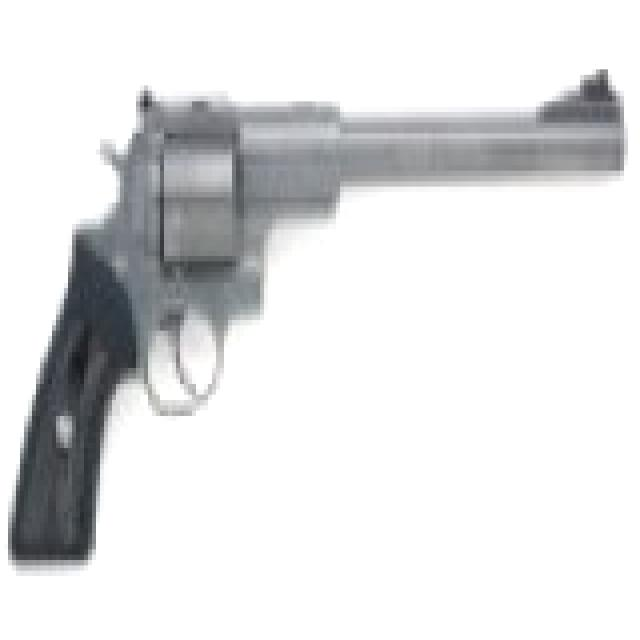pistol: (4, 58, 624, 554)
